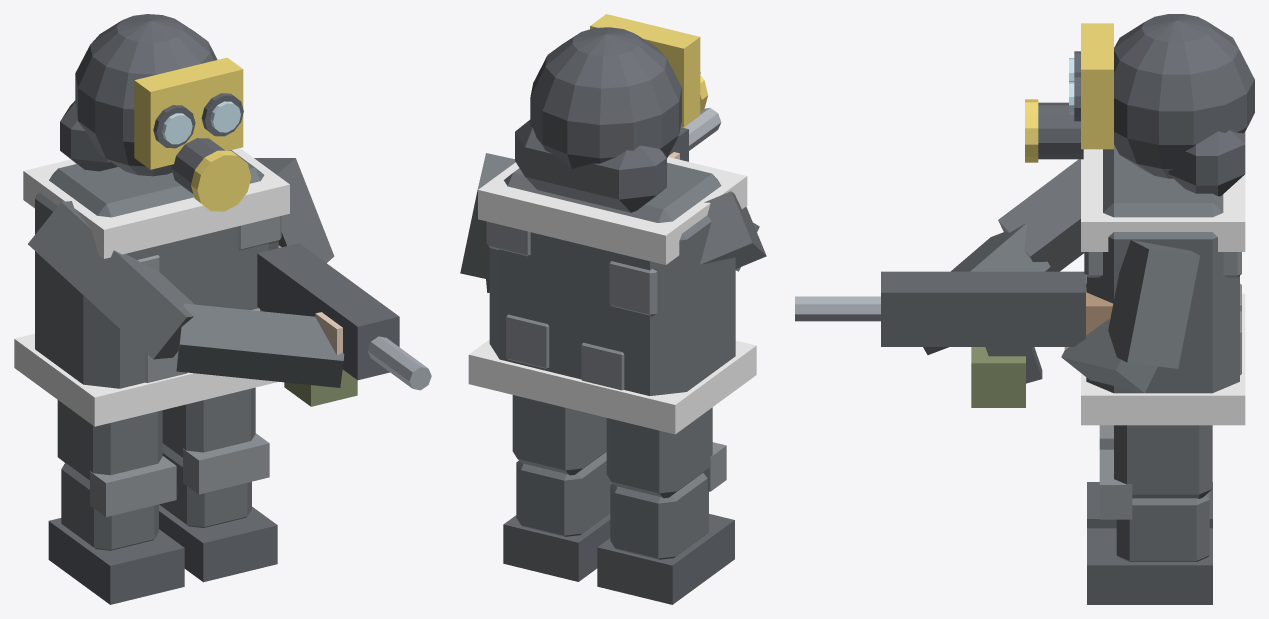
The model's file is rifle@toxico.glb.
3 views of the same model, side by side, from view 1: azimuth 30°, elevation 25°; view 2: azimuth 150°, elevation 25°; view 3: azimuth 270°, elevation 25° (orthographic). The views are drawn at different scales.
Visible parts, largest first — view 1: main, shinl, shinr, legl, legr; view 2: main, shinl, shinr, legl, legr; view 3: main, shinr, legr, shinl.
Part boxes in pixels (bbox=[...]): main: bbox=[14, 14, 431, 426]; shinl: bbox=[48, 456, 184, 604]; shinr: bbox=[159, 433, 277, 582]; legl: bbox=[57, 400, 162, 480]; legr: bbox=[162, 387, 255, 458]; main: bbox=[460, 14, 766, 434]; shinl: bbox=[597, 442, 734, 604]; shinr: bbox=[503, 452, 612, 581]; legl: bbox=[606, 407, 712, 498]; legr: bbox=[512, 395, 606, 475]; main: bbox=[795, 14, 1254, 425]; shinr: bbox=[1087, 449, 1212, 604]; legr: bbox=[1114, 425, 1212, 498]; shinl: bbox=[1087, 425, 1212, 528].
Size of the model in its own units: 0.3161 by 0.5462 by 0.4193.
